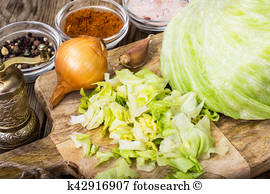chopped lettuce: (90, 1, 270, 167)
